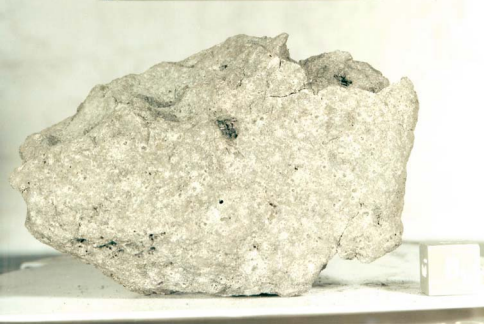Basalt: (82, 50, 423, 284)
